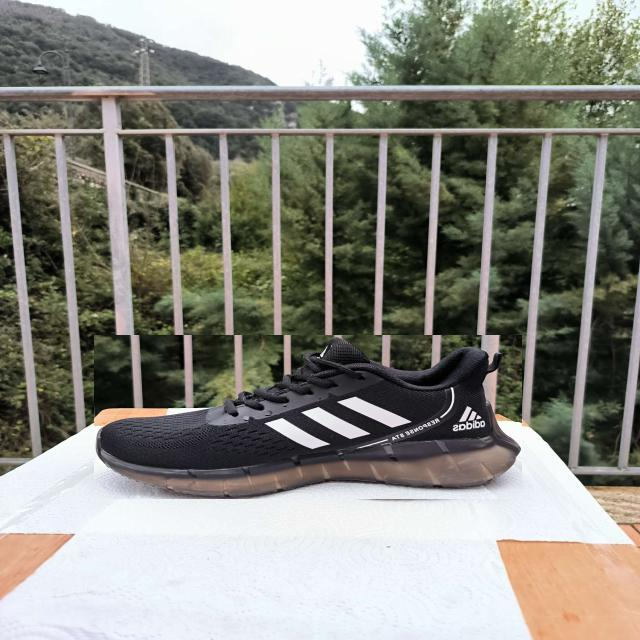shoe: (94, 335, 522, 499)
